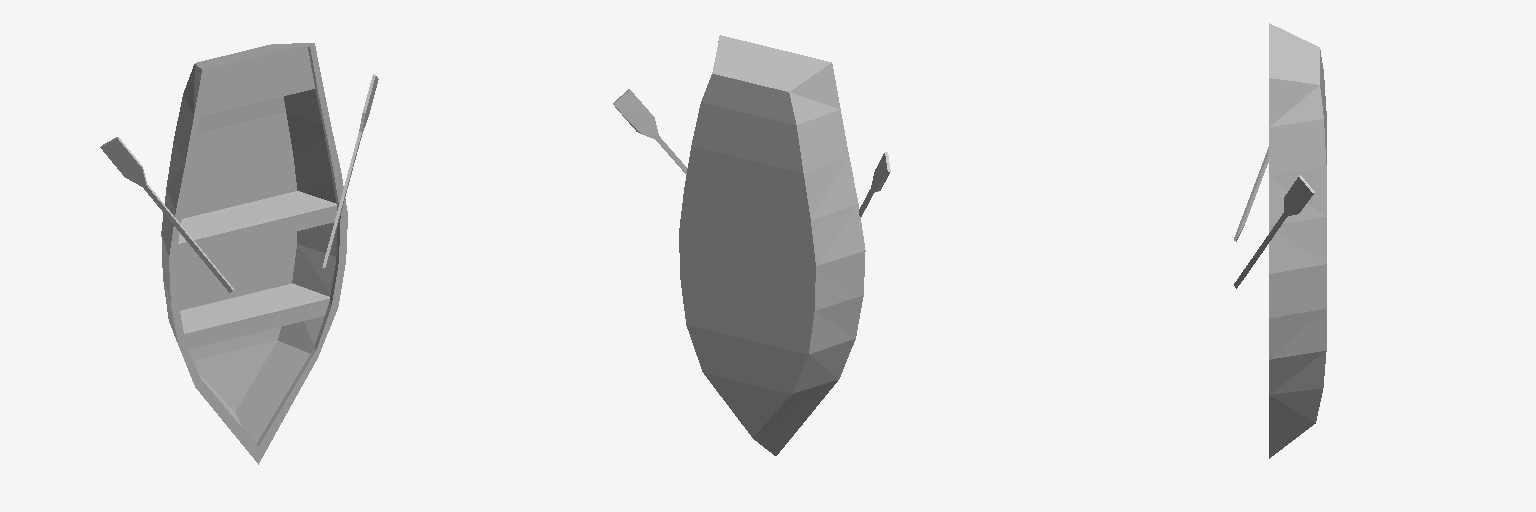
The model's file is woodBoat.obj.
3 views of the same model, side by side, from view 1: azimuth 30°, elevation 25°; view 2: azimuth 150°, elevation 25°; view 3: azimuth 270°, elevation 25° (orthographic).
Parts seen in each view (by area): view 1: obj2, obj1, obj3; view 2: obj2, obj3; view 3: obj2, obj3.
Boxes of the visible parts, x1,y1,x2,y2 form: obj2: [161, 43, 347, 464]; obj1: [176, 191, 336, 348]; obj3: [100, 74, 378, 292]; obj2: [679, 35, 865, 455]; obj3: [613, 89, 890, 216]; obj2: [1269, 23, 1326, 458]; obj3: [1234, 147, 1314, 288].
Bounding box in the file's own units: 5.74 × 8.04 × 1.66.